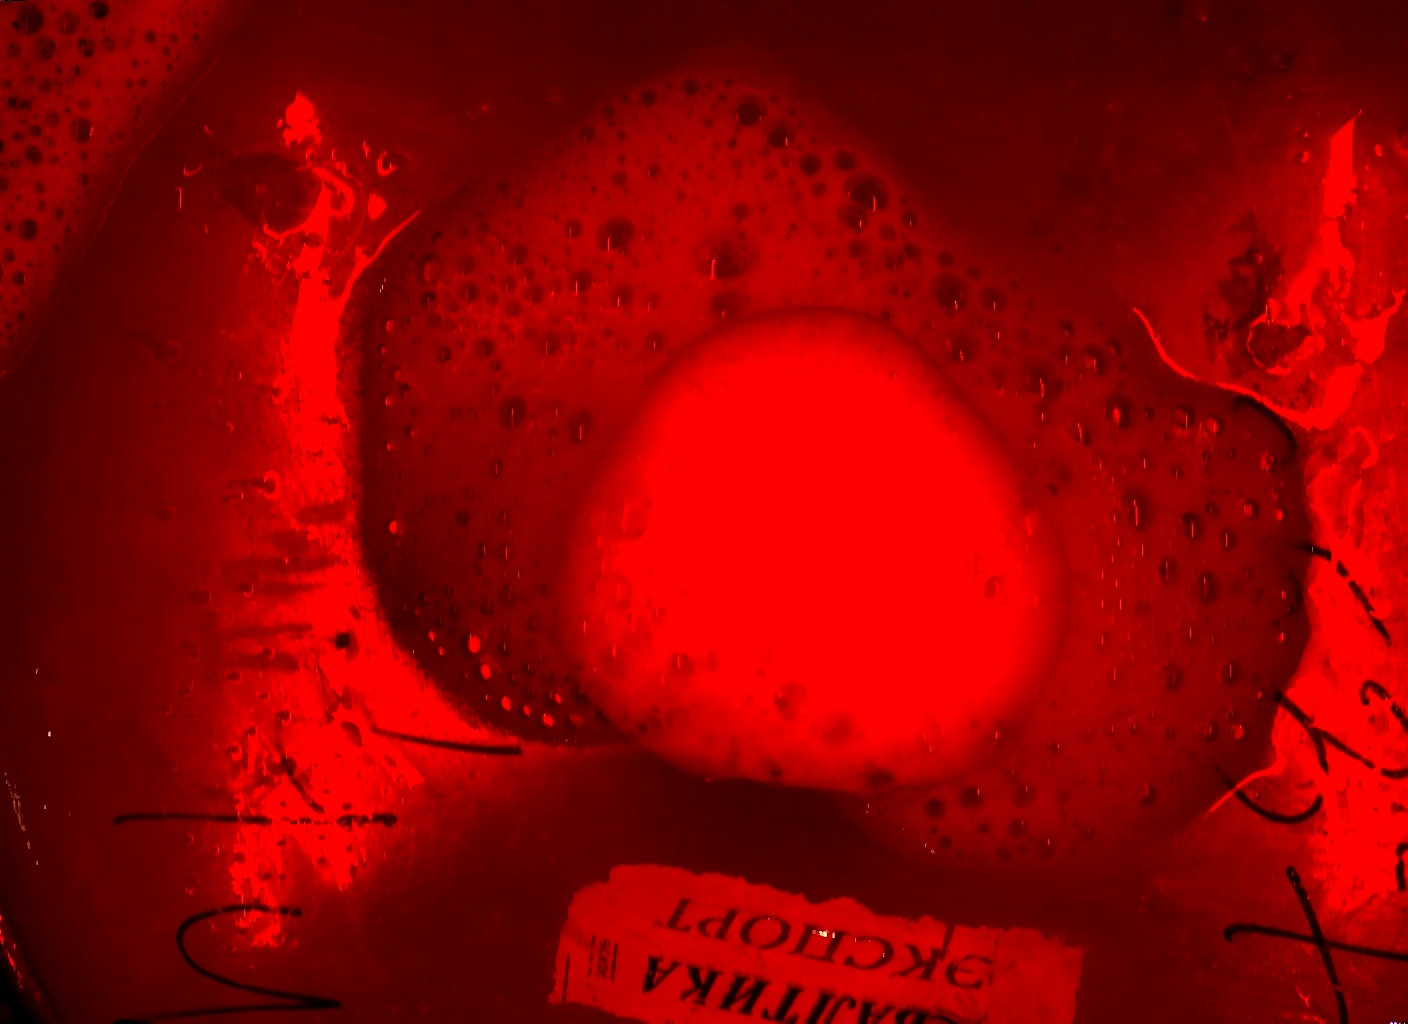pena: (364, 47, 1136, 315), (1073, 280, 1305, 850), (350, 138, 558, 762), (865, 798, 1184, 905)
shapka: (556, 302, 1075, 815)
